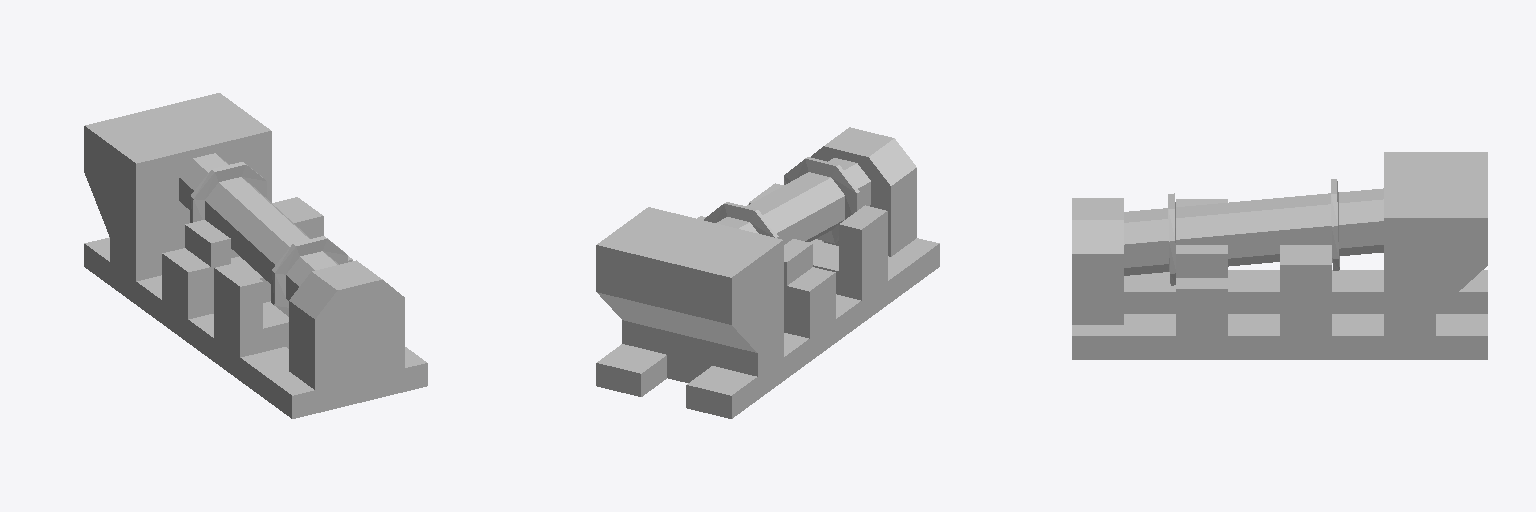
The model's file is rotarykiln.obj.
3 views of the same model, side by side, from view 1: azimuth 30°, elevation 25°; view 2: azimuth 150°, elevation 25°; view 3: azimuth 270°, elevation 25° (orthographic).
Visible parts, largest first — view 1: Base_Cube.001, Tube_Cube.002; view 2: Base_Cube.001, Tube_Cube.002; view 3: Base_Cube.001, Tube_Cube.002.
Part boxes in pixels (x1,y1,x2,y2): Base_Cube.001: (84, 93, 427, 418); Tube_Cube.002: (179, 153, 347, 316); Base_Cube.001: (596, 127, 939, 418); Tube_Cube.002: (704, 157, 870, 244); Base_Cube.001: (1072, 152, 1487, 359); Tube_Cube.002: (1124, 179, 1383, 285).
Bounding box in the file's own units: 3 × 3 × 8.